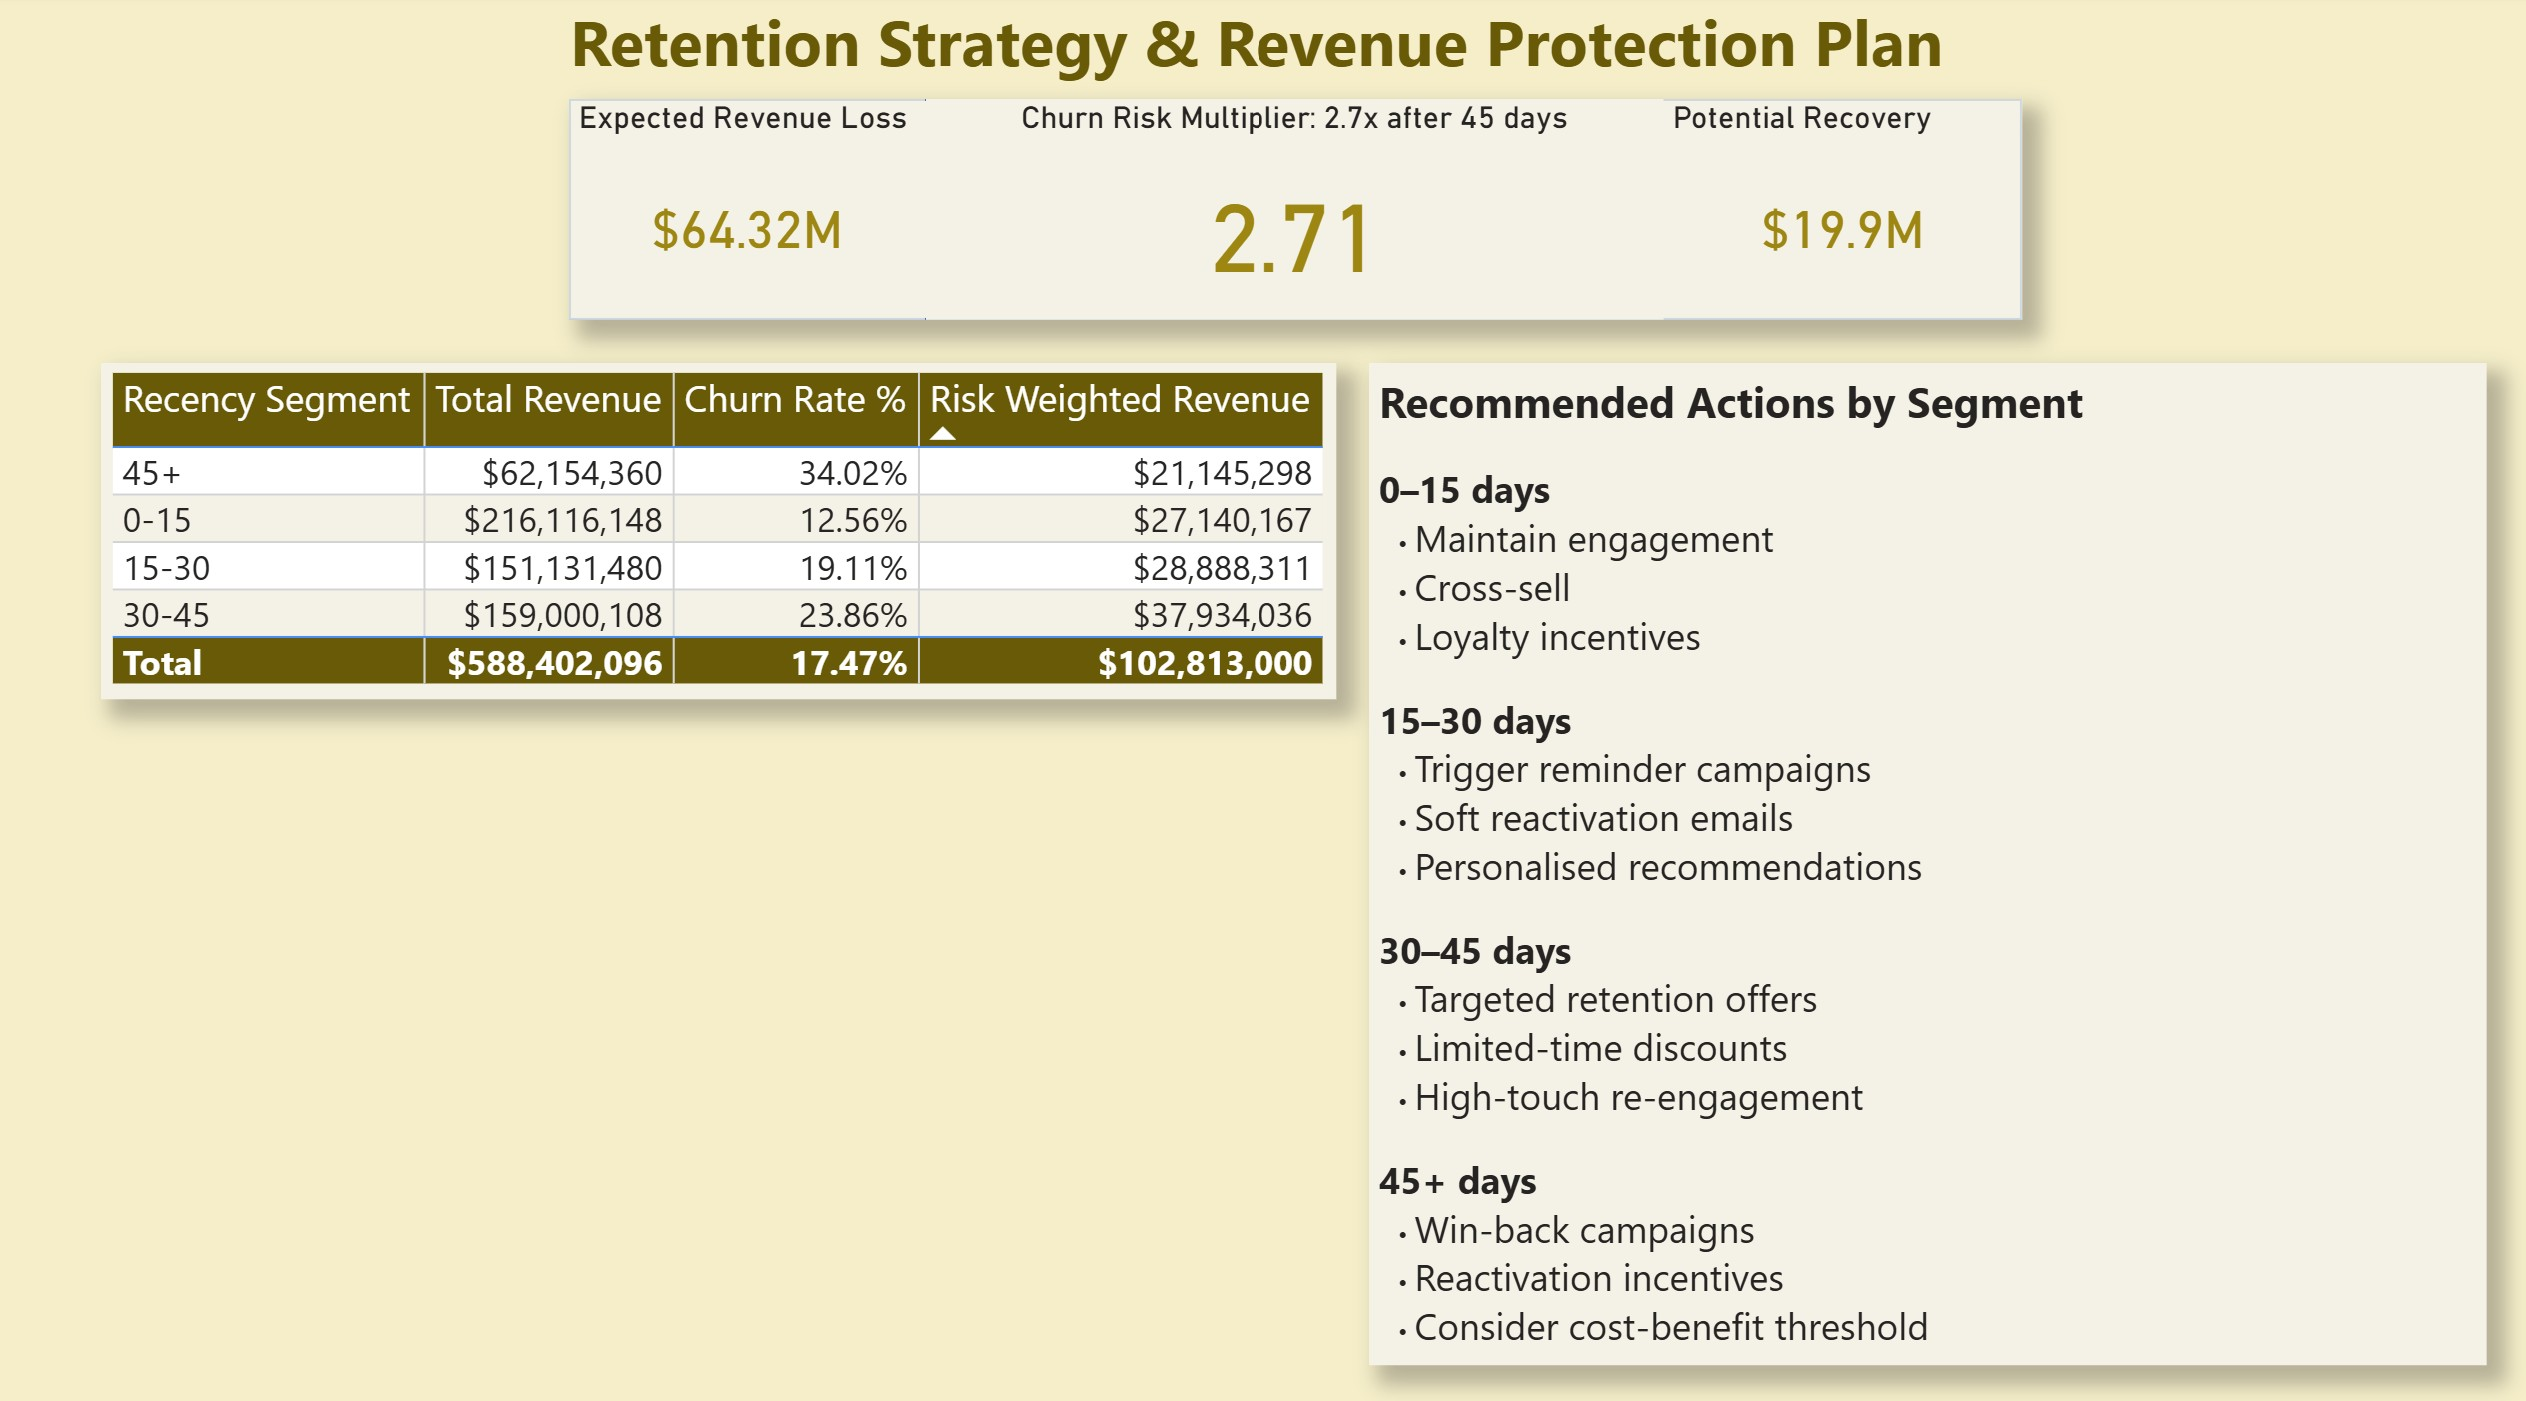

Layout of this report page (visuals, bound fields, positions):
{"tool":"powerbi","page":{"name":"Strategy and Protection Plan","canvas":[1280,720],"ordinal":3},"visuals":[{"type":"shape","box":[288.3,56.7,735,111.7],"z":0},{"type":"textbox","box":[283.3,0,753.3,53.3],"z":1000},{"type":"tableEx","fields":{"Values":["churn_bi_table.gap_bucket","churn_bi_table.Total Revenue","churn_bi_table.Churn Rate %","churn_bi_table.Risk Weighted Revenue"]},"box":[51.7,190,625,170],"z":2000},{"type":"textbox","box":[693.3,190,565,506.7],"z":3000},{"type":"card","title":"Churn Risk Multiplier: 2.7x after 45 days","fields":{"Values":["churn_bi_table.Risk Multiplier"]},"box":[468.3,56.1,373.3,111.7],"z":4000},{"type":"card","title":"Potential Recovery","fields":{"Values":["churn_bi_table.Potential Recovery"]},"box":[841.7,56.1,181.7,111.7],"z":5000},{"type":"card","title":"Expected Revenue Loss","fields":{"Values":["churn_bi_table.Expected Revenue Loss"]},"box":[288.3,56.1,180,111.7],"z":6000}]}

Visuals, with their boxes in screenshot pixels (x1, y1, x2, y2), scaled from the page's 1280x720 canvas onto the 2526x1401 screenshot:
shape: x1=569, y1=110, x2=2019, y2=328
textbox: x1=559, y1=0, x2=2046, y2=104
tableEx - churn_bi_table.gap_bucket x churn_bi_table.Total Revenue: x1=102, y1=370, x2=1335, y2=700
textbox: x1=1368, y1=370, x2=2483, y2=1356
"Churn Risk Multiplier: 2.7x after 45 days" card: x1=924, y1=109, x2=1661, y2=327
"Potential Recovery" card: x1=1661, y1=109, x2=2020, y2=327
"Expected Revenue Loss" card: x1=569, y1=109, x2=924, y2=327
